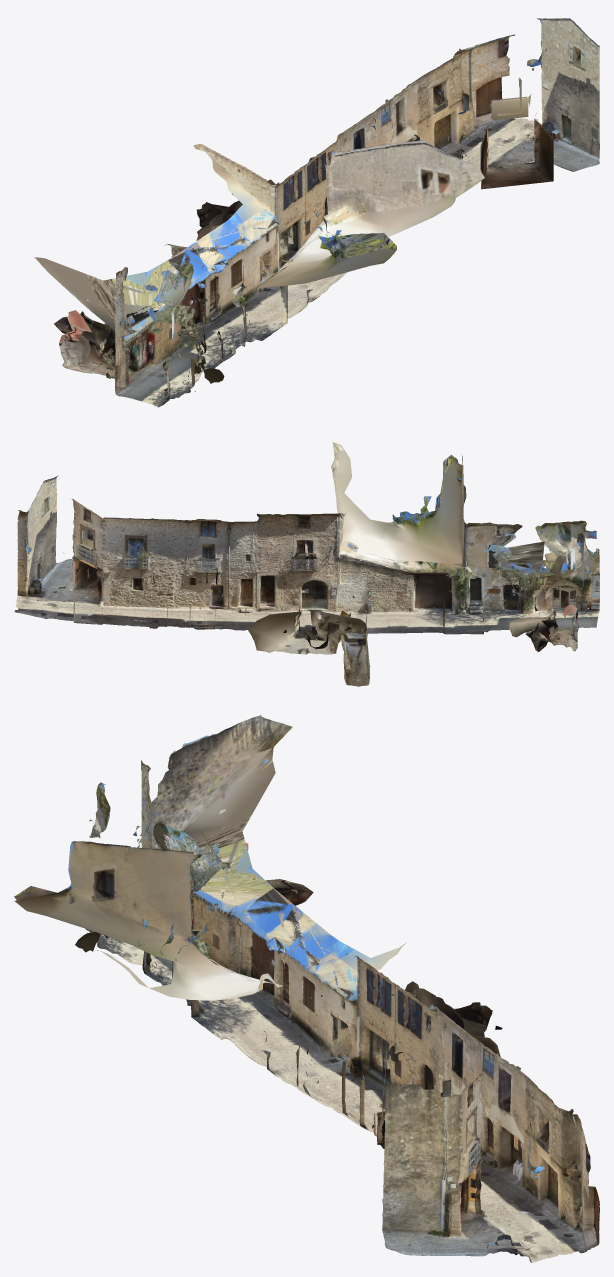
File: medium.glb
The picture shows the model from 3 angles, top to bottom: view 1: azimuth 30°, elevation 25°; view 2: azimuth 150°, elevation 25°; view 3: azimuth 270°, elevation 25°; orthographic projection. The views are drawn at different scales.
Visible parts, largest first — view 1: medium.030; view 2: medium.030; view 3: medium.030.
Boxes of the visible parts, box(x1,y1,x2,y2) form: medium.030: box(34, 18, 599, 407); medium.030: box(14, 442, 599, 686); medium.030: box(14, 715, 599, 1262).
Bounding box in the file's own units: 39.98 × 11.45 × 25.32.
Materials: 1 (1 with a texture image).
